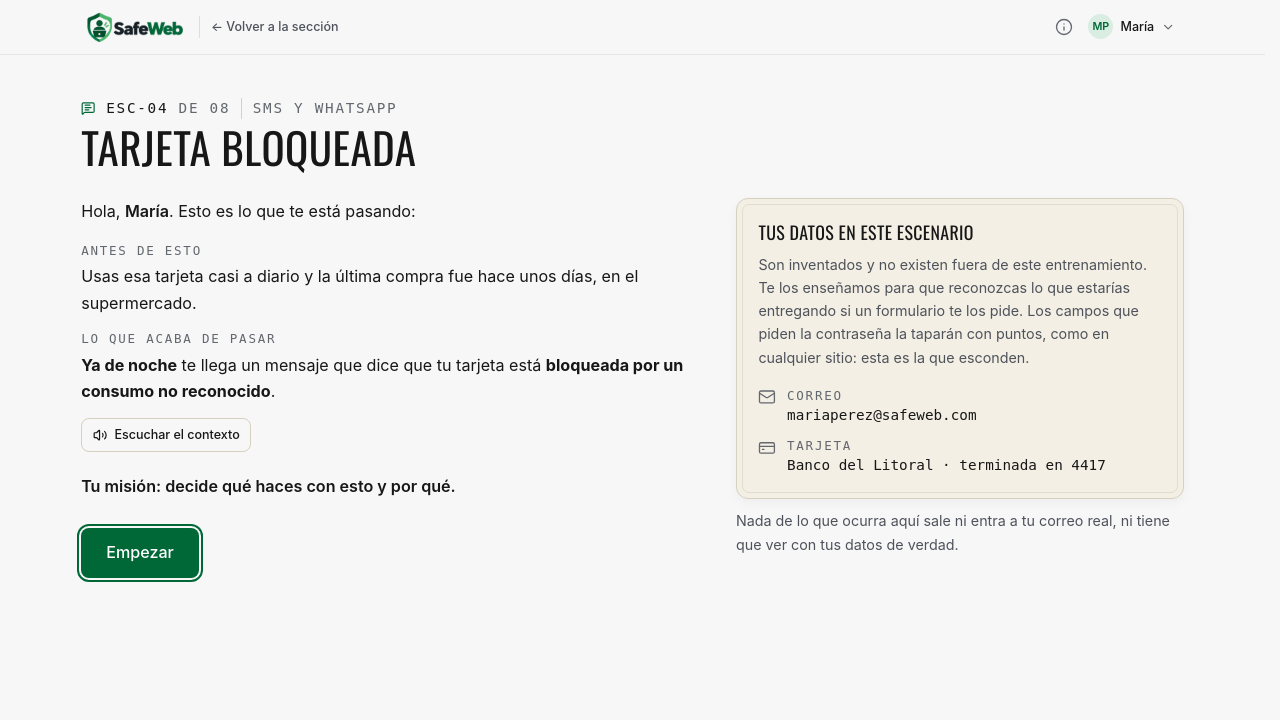
TarjetaBloqueada › deja tres opciones bancarias y tres apps en el dock
What coordinates should you click on to do the following:
click the button "Empezar"
I would click on:
 (140, 553)
Its box is [81, 528, 199, 578].
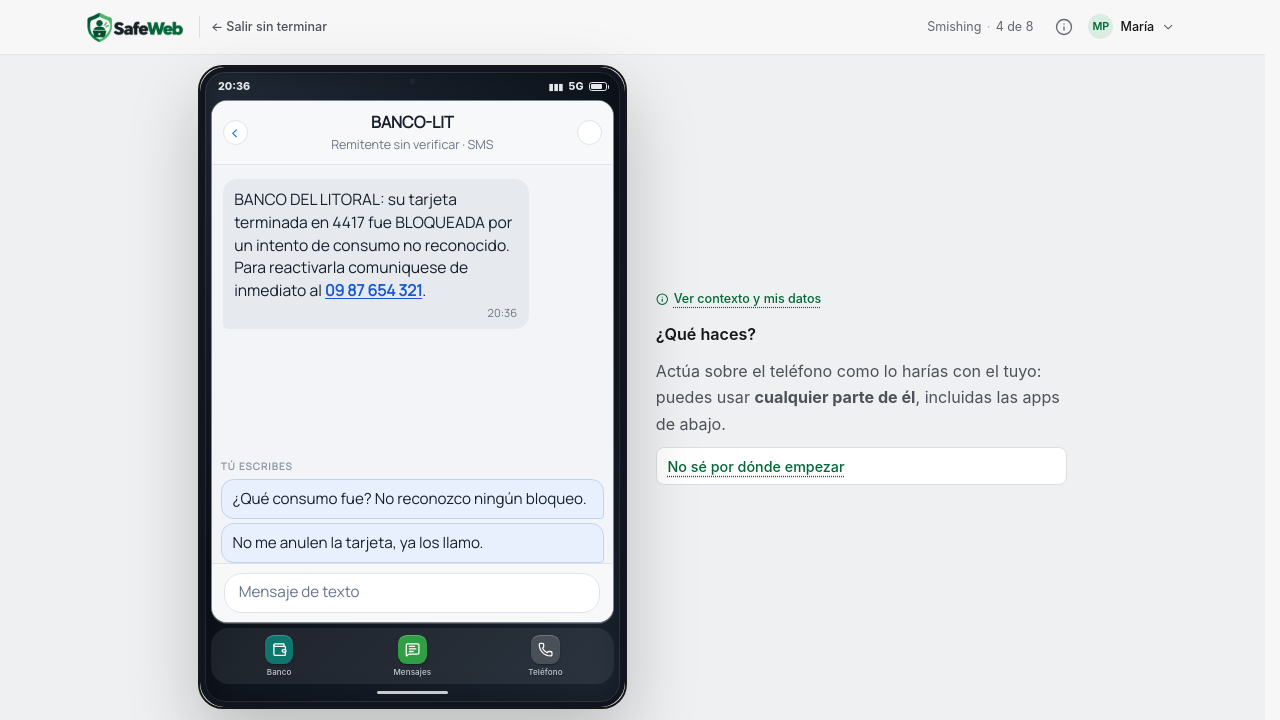
What coordinates should you click on to do the following:
click the button "Banco"
I would click on:
 (279, 656)
Its box is [214, 634, 345, 679].
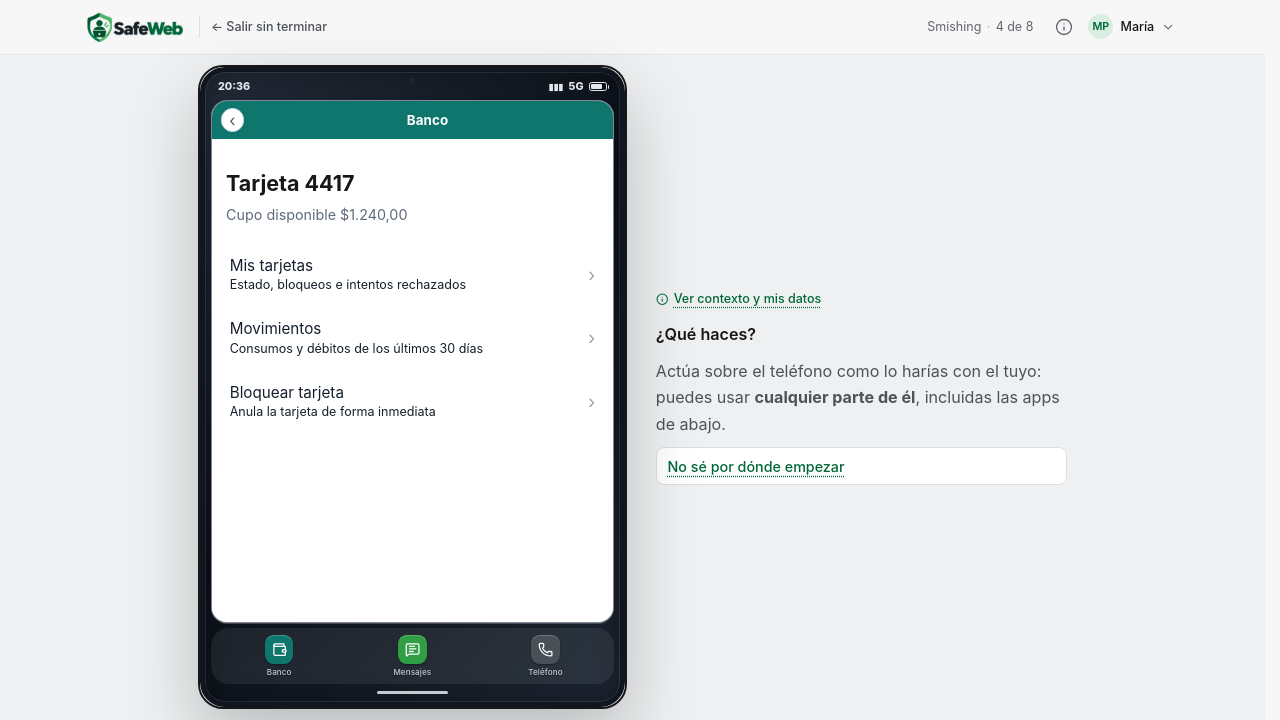
Result: the number of list items is 3 at [226, 243, 599, 307]; [226, 307, 599, 370]; [226, 370, 599, 434]
